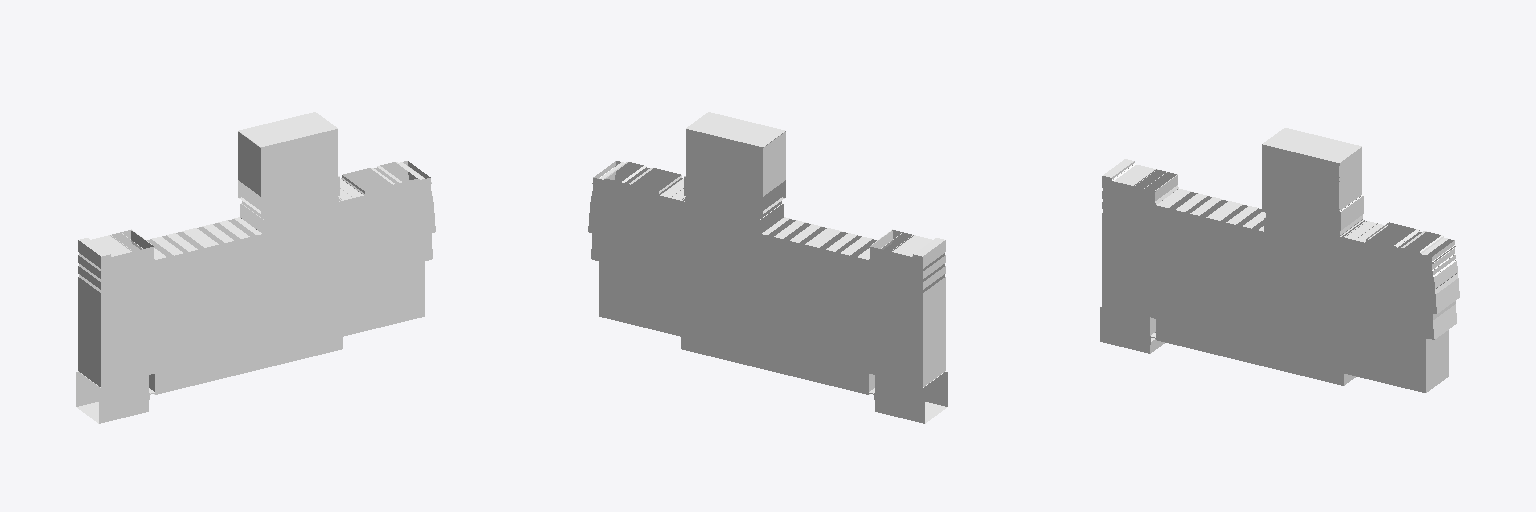
The picture shows the model from 3 angles: view 1: azimuth 30°, elevation 25°; view 2: azimuth 150°, elevation 25°; view 3: azimuth 330°, elevation 25°; orthographic projection.
Visible parts, largest first — view 1: Object.1; view 2: Object.1; view 3: Object.1.
Boxes of the visible parts, x1=… form: Object.1: x1=76, y1=112, x2=435, y2=423; Object.1: x1=588, y1=112, x2=947, y2=423; Object.1: x1=1100, y1=128, x2=1459, y2=392.
Bounding box in the file's own units: 177 × 119 × 20.9.
1 materials, 1 textured.